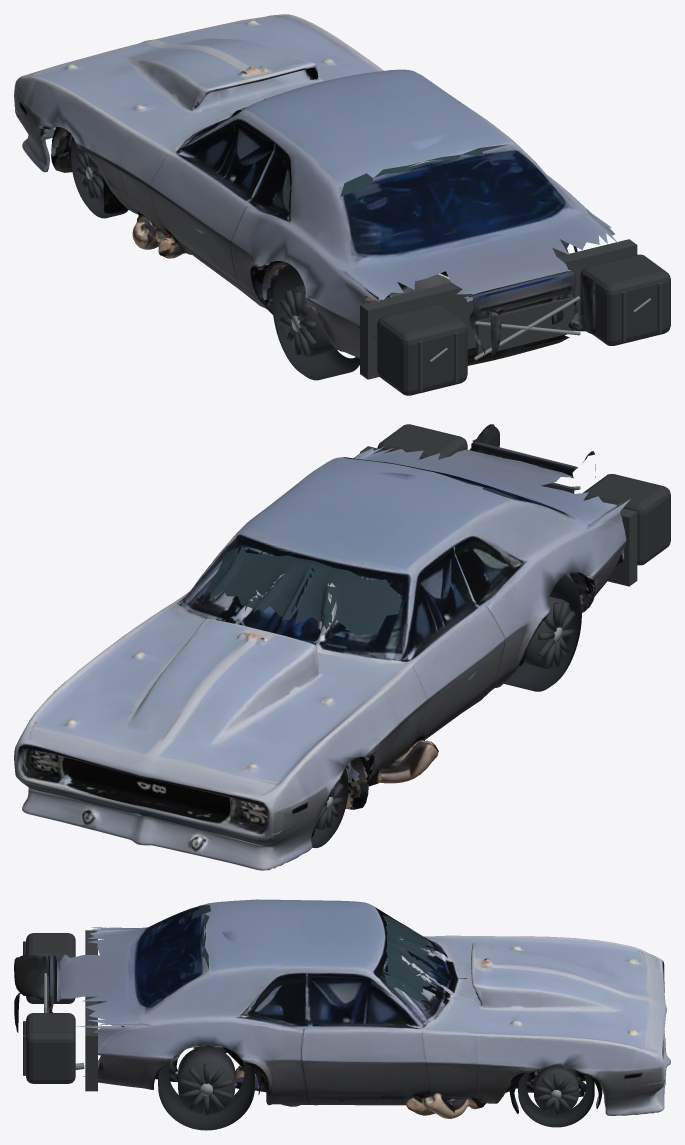
Rendered from eagle.glb.
3 renders of one model, top to bottom at view 1: azimuth 30°, elevation 25°; view 2: azimuth 150°, elevation 25°; view 3: azimuth 270°, elevation 25°, orthographic. The views are drawn at different scales.
Visible parts, largest first — view 1: body, parachute_pack, parachute_pack.001, rear_hardware_mounting_panel, wheel_rl, rear_center_race_panel, wheel_fl; view 2: body, wheel_rl, parachute_pack, parachute_pack.001, rear_hardware_mounting_panel, wheel_fl; view 3: body, wheel_rr, parachute_pack.001, wheel_fr, parachute_pack, rear_hardware_mounting_panel.
Part boxes in pixels (x1,y1,x2,y2): body: (14,14,618,365); parachute_pack: (377,304,467,395); parachute_pack.001: (580,254,670,345); rear_hardware_mounting_panel: (360,239,637,379); wheel_rl: (272,264,359,380); rear_center_race_panel: (476,297,574,355); wheel_fl: (71,138,128,218); body: (14,424,630,870); wheel_rl: (503,575,581,691); parachute_pack: (583,474,670,565); parachute_pack.001: (377,424,467,459); rear_hardware_mounting_panel: (360,446,637,586); wheel_fl: (311,767,348,848); body: (14,899,670,1118); wheel_rr: (158,1046,254,1130); parachute_pack.001: (26,1013,75,1083); wheel_fr: (518,1065,594,1127); parachute_pack: (26,933,75,1003); rear_hardware_mounting_panel: (85,930,97,1091).
Bounding box in the file's own units: 2.19 × 1.34 × 5.15.
8 materials, 1 textured.
